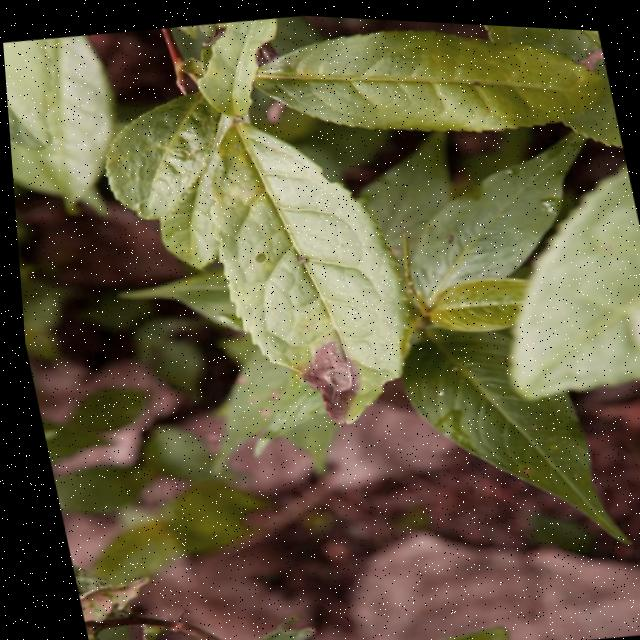Tea exobasidium blight: (269, 321, 357, 432)
